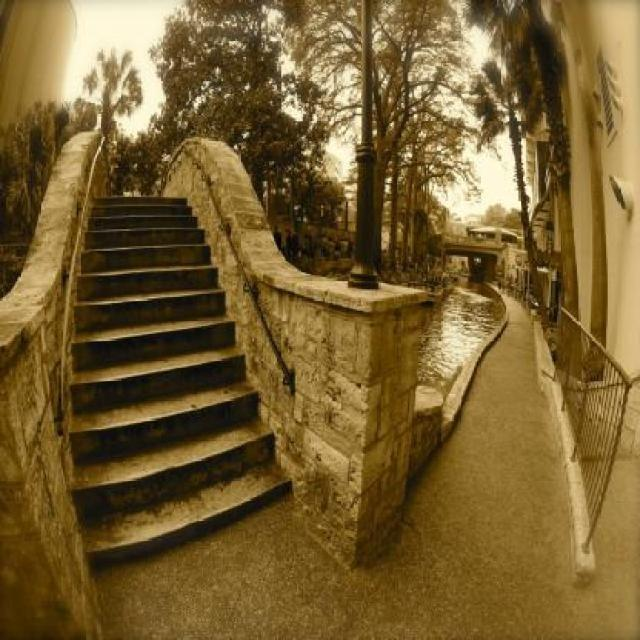stair: (69, 189, 291, 562)
